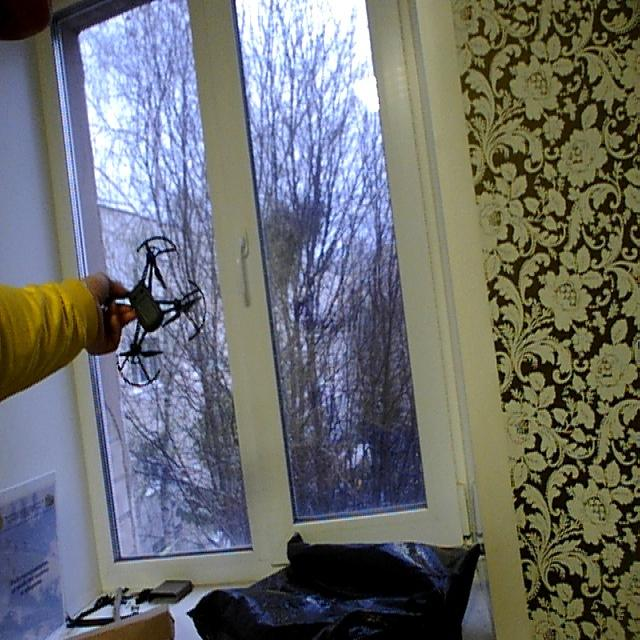drone: (86, 216, 218, 403)
